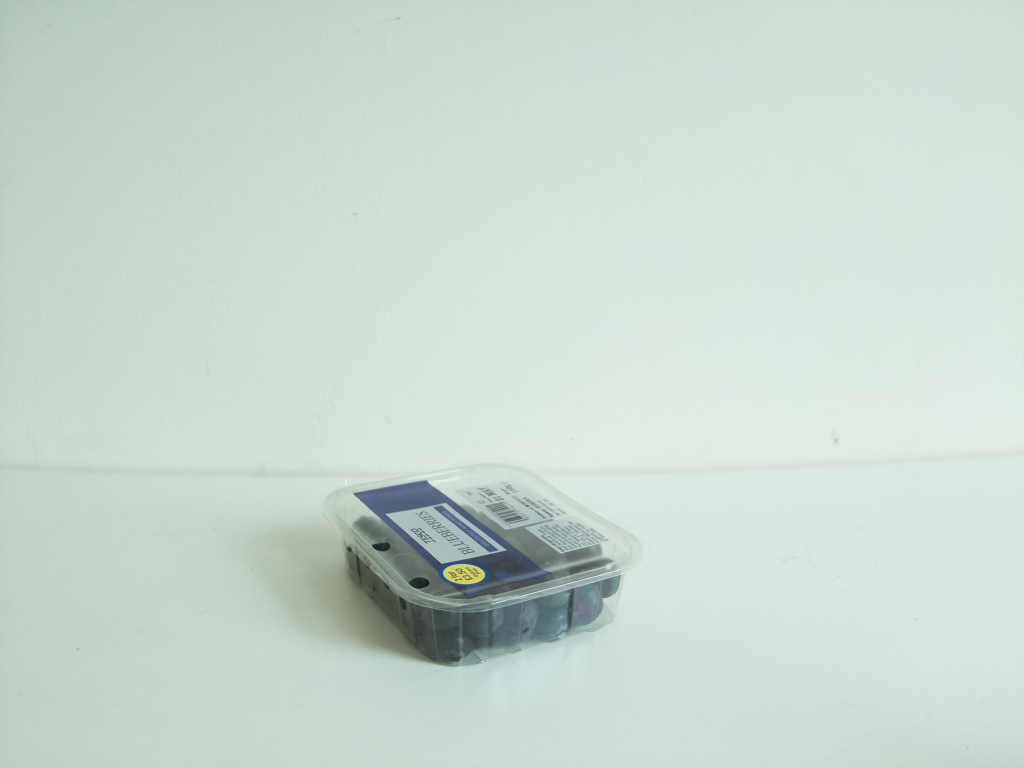soft-fruit: (322, 466, 640, 668)
